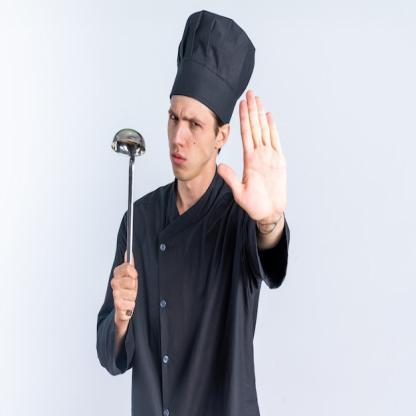stop: (214, 86, 298, 231)
